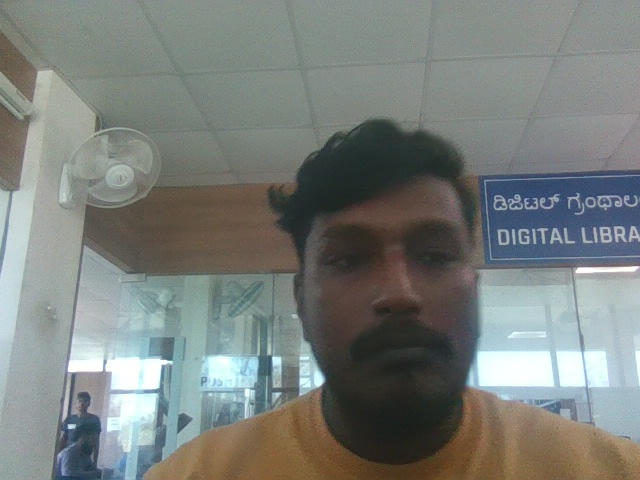real: (275, 99, 506, 427)
